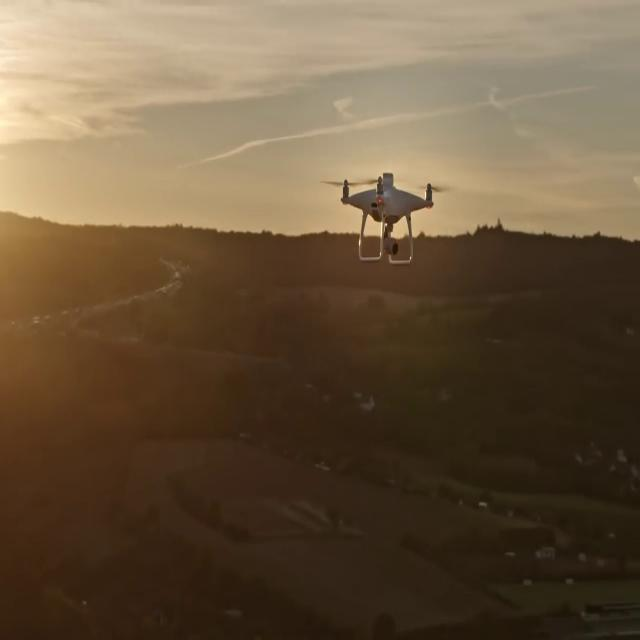drone: (316, 170, 452, 266)
